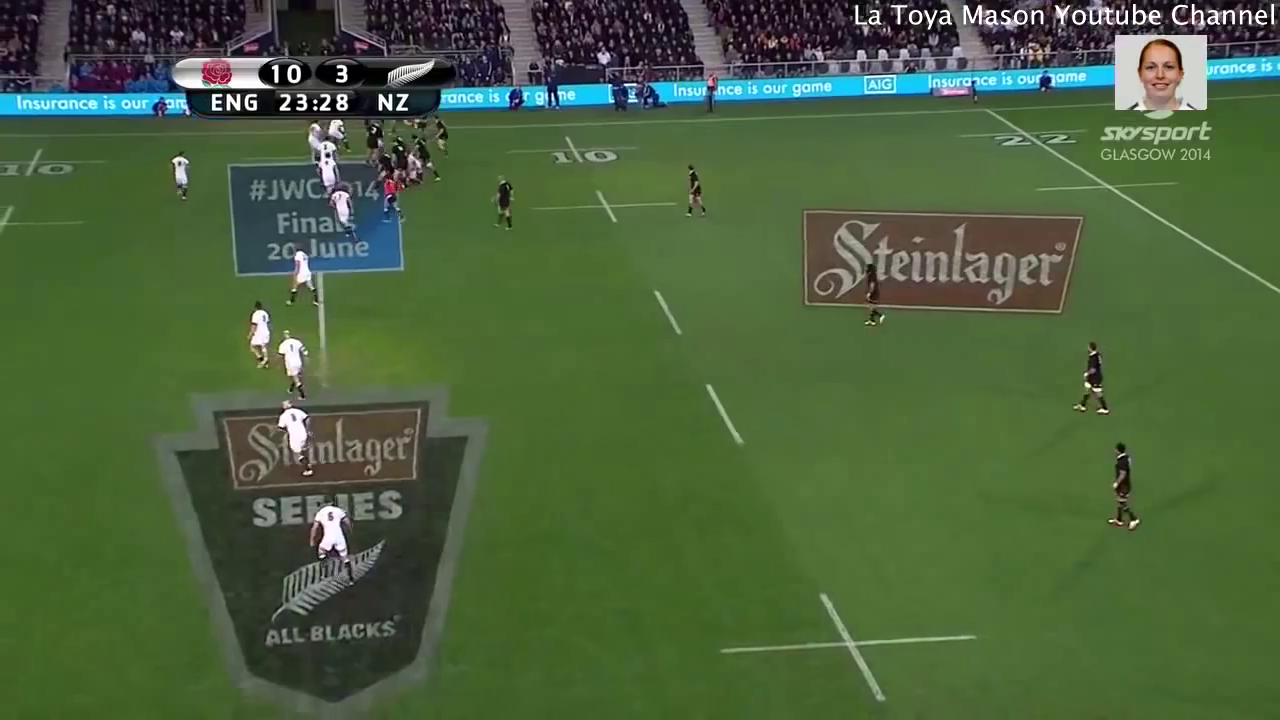10_metre: (706, 587, 991, 707), (520, 186, 685, 228), (499, 134, 648, 167), (1, 199, 92, 253), (1, 143, 105, 183)
player: (1096, 432, 1150, 546), (305, 497, 360, 587), (270, 397, 321, 478), (1073, 340, 1116, 422), (281, 240, 325, 311), (675, 158, 716, 228), (484, 165, 522, 236), (276, 328, 312, 402), (244, 297, 276, 371), (858, 262, 891, 328), (330, 183, 362, 239), (166, 147, 197, 203), (410, 135, 445, 180), (315, 151, 344, 195), (430, 115, 459, 158), (381, 176, 404, 225), (325, 110, 350, 151), (387, 140, 411, 182), (365, 120, 385, 159), (302, 115, 323, 150), (375, 150, 390, 178)
